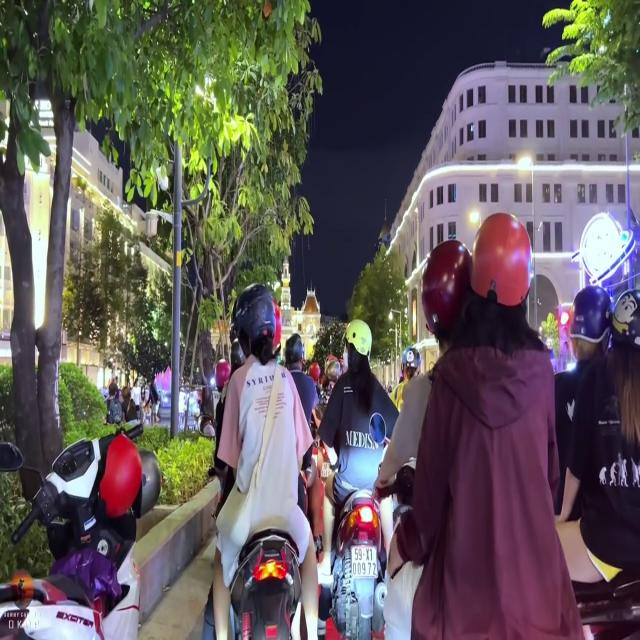bien_trang: (350, 544, 378, 576)
